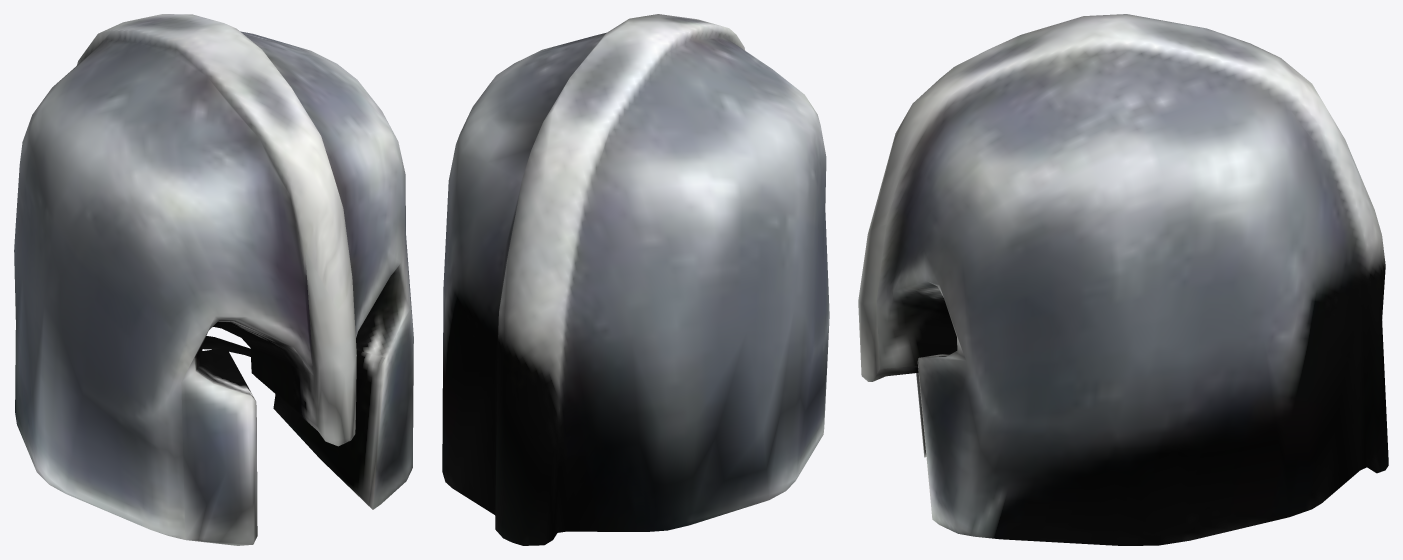
Rendered from Helmet_1.glb.
3 views of the same model, side by side, from view 1: azimuth 30°, elevation 25°; view 2: azimuth 150°, elevation 25°; view 3: azimuth 270°, elevation 25° (orthographic). The views are drawn at different scales.
Visible parts, largest first — view 1: head_low.001; view 2: head_low.001; view 3: head_low.001.
Boxes of the visible parts, x1,y1,x2,y2 form: head_low.001: (14, 14, 413, 545); head_low.001: (442, 14, 829, 545); head_low.001: (858, 14, 1388, 545).
Size of the model in its own units: 0.2913 by 0.3686 by 0.3865.
Materials: 1 (1 with a texture image).
